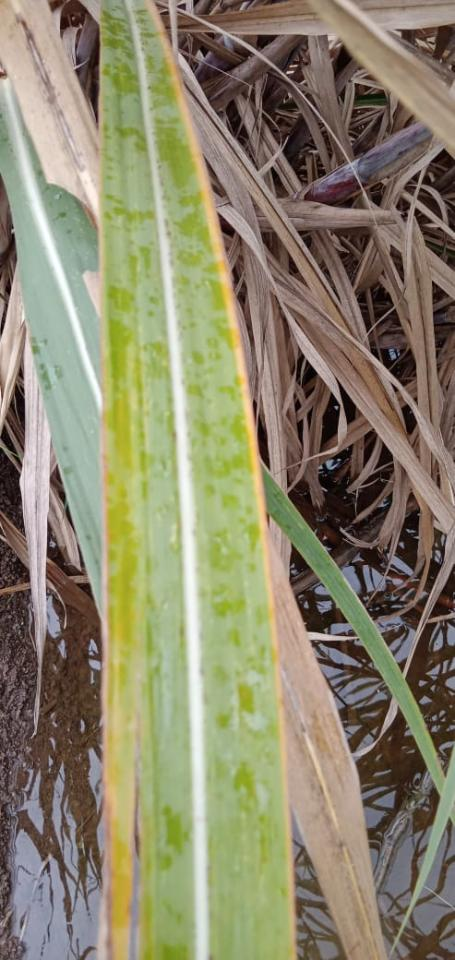Yellow: (142, 1, 297, 959), (98, 212, 137, 959)
